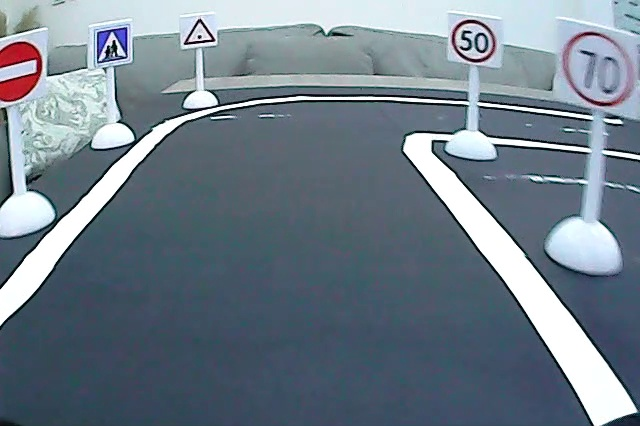do not enter: (1, 35, 45, 105)
green light: (180, 16, 217, 47)
school crossing: (94, 25, 129, 64)
speed limit 50: (449, 17, 498, 65)
speed limit 70: (560, 27, 636, 109)
